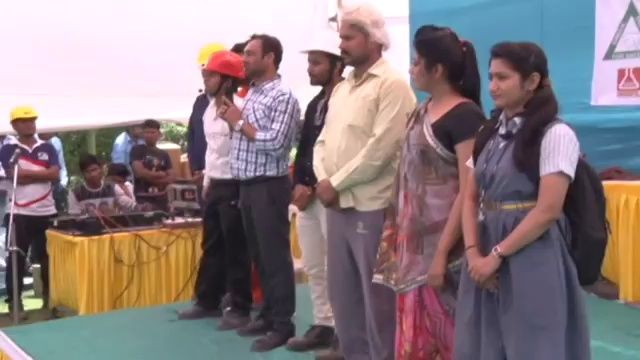helmet: (201, 47, 246, 82), (302, 23, 341, 60), (8, 106, 38, 127)
helmet_off: (484, 40, 556, 119), (405, 24, 474, 100), (334, 6, 396, 69), (237, 33, 285, 85), (103, 163, 132, 190), (77, 156, 103, 186), (140, 122, 161, 148), (125, 125, 143, 138)
helmet_on: (301, 28, 342, 91), (201, 49, 246, 100), (8, 106, 39, 139)
person: (454, 38, 610, 360), (317, 12, 421, 360), (384, 21, 490, 360), (219, 32, 304, 354), (284, 18, 343, 356), (176, 47, 246, 331), (0, 107, 61, 326), (68, 154, 153, 213), (128, 121, 173, 198), (110, 123, 145, 163)
